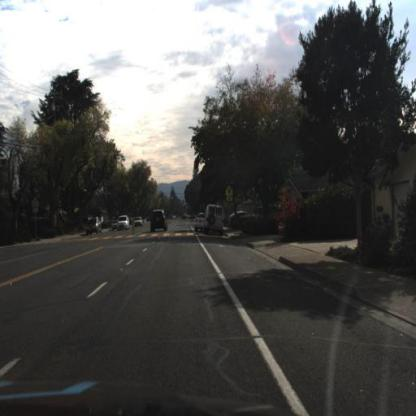car: (204, 203, 225, 235), (151, 209, 170, 237), (86, 218, 101, 236), (193, 212, 205, 231), (118, 216, 129, 232), (133, 216, 145, 228)
